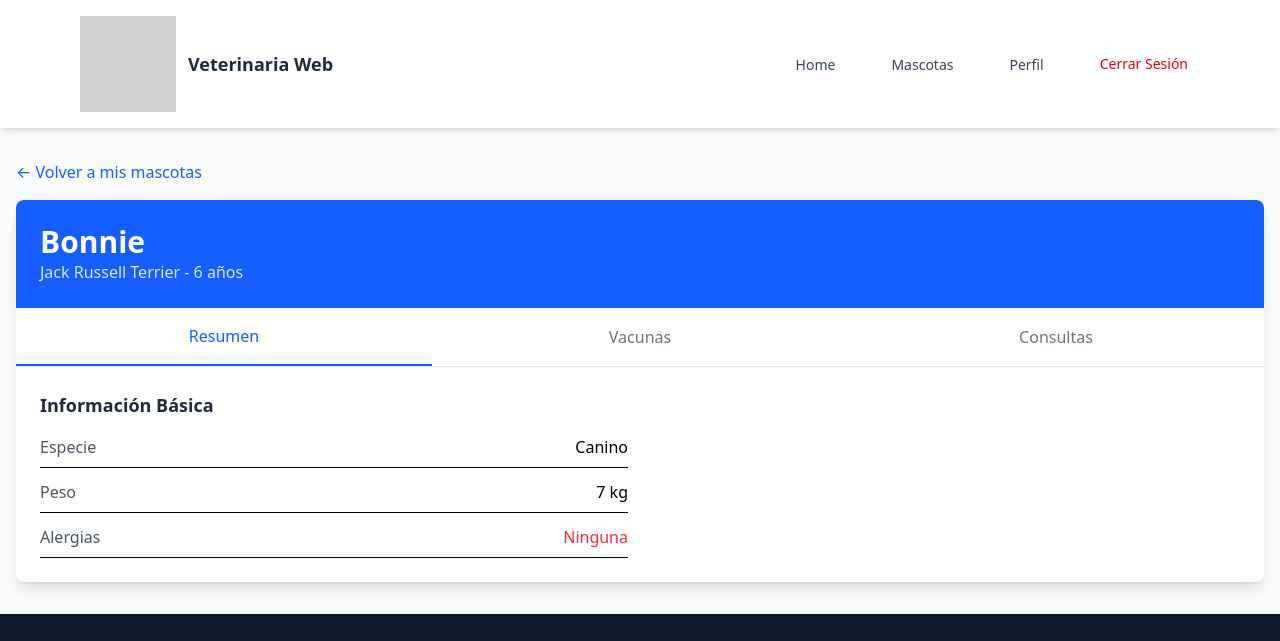
Scenario: Pruebas pet profile › should switch between tabs
The width and height of the screenshot is (1280, 641).
Click the button "vacunas": (640, 337) left=432, top=308, right=848, bottom=366
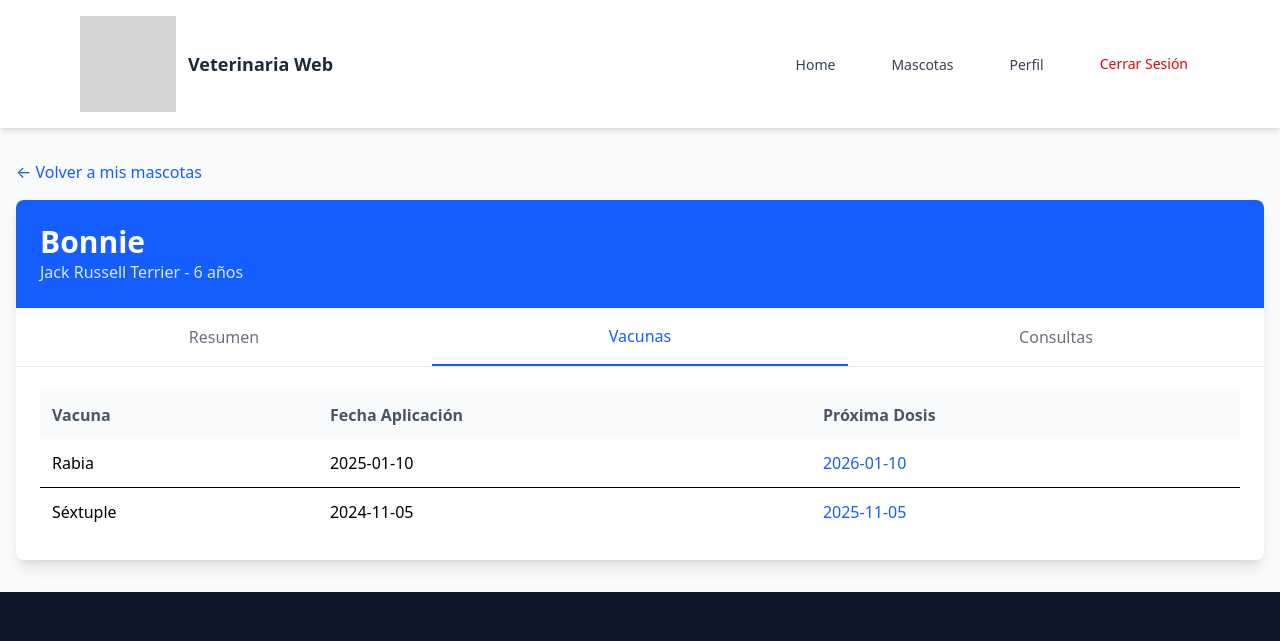
Expected: the text "Rabia" is shown, left=40, top=439, right=318, bottom=488
Click the button "consultas": (1056, 337) left=848, top=308, right=1264, bottom=366
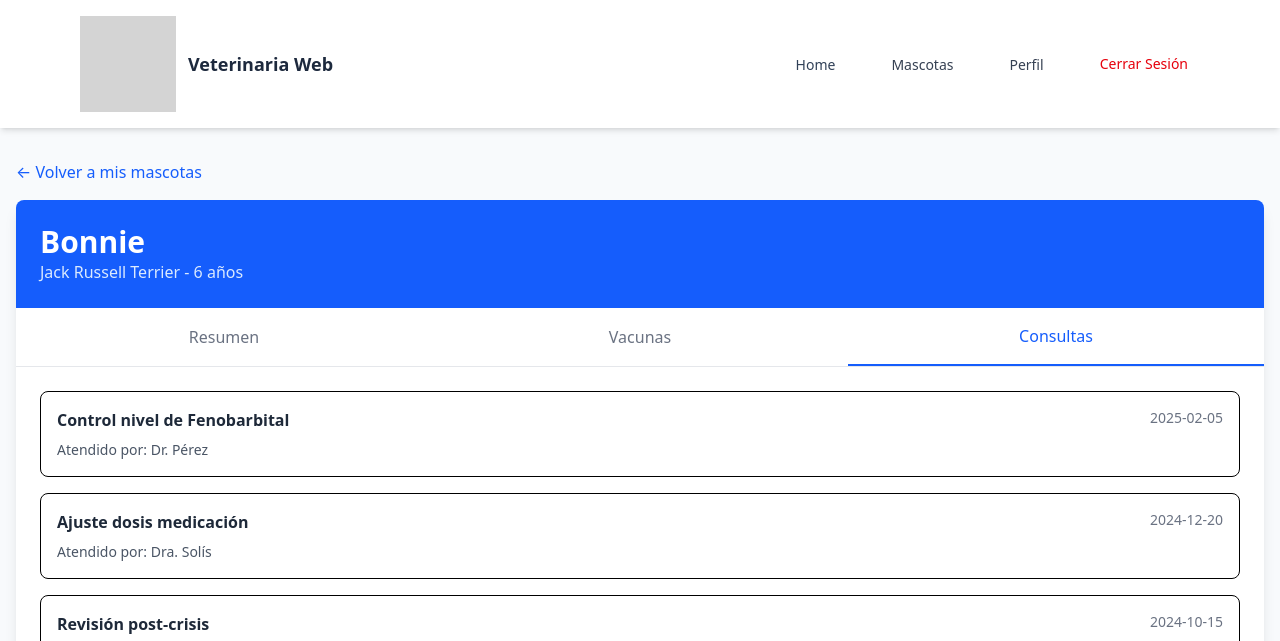
Expected: the text "Control nivel de Fenobarbital" is shown, left=57, top=408, right=289, bottom=432
